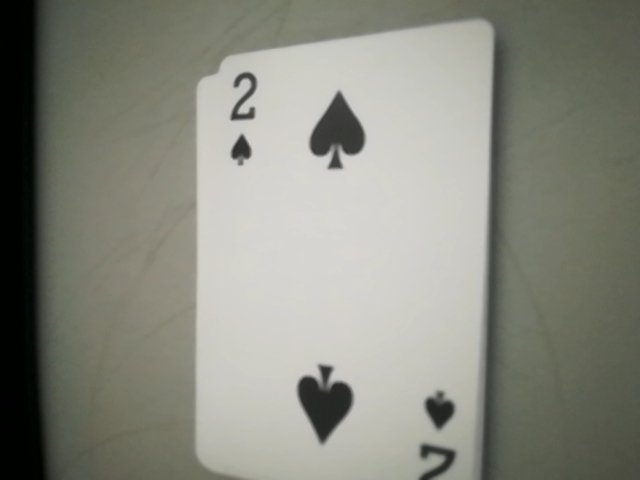ht 2: (206, 66, 284, 182)
